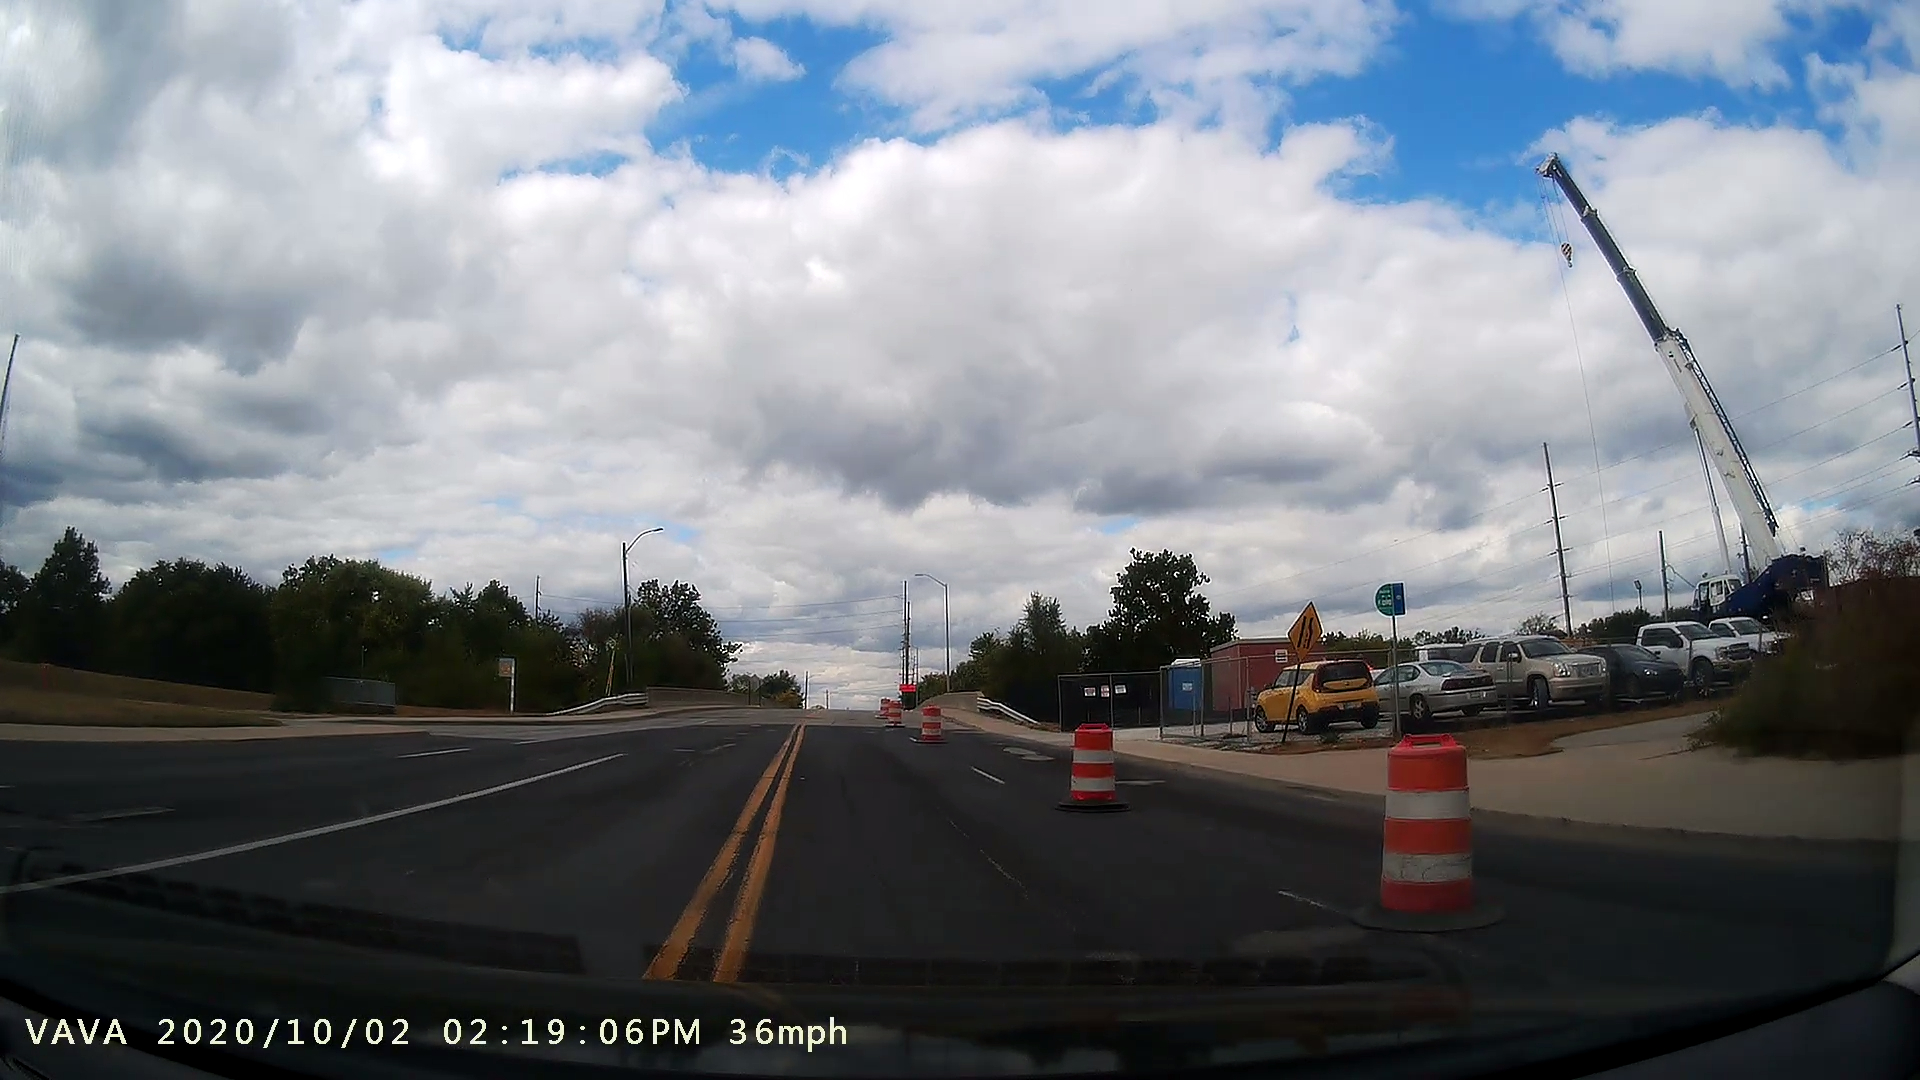const_barrel: (1344, 717, 1511, 936), (1046, 712, 1139, 825), (909, 698, 952, 753)
